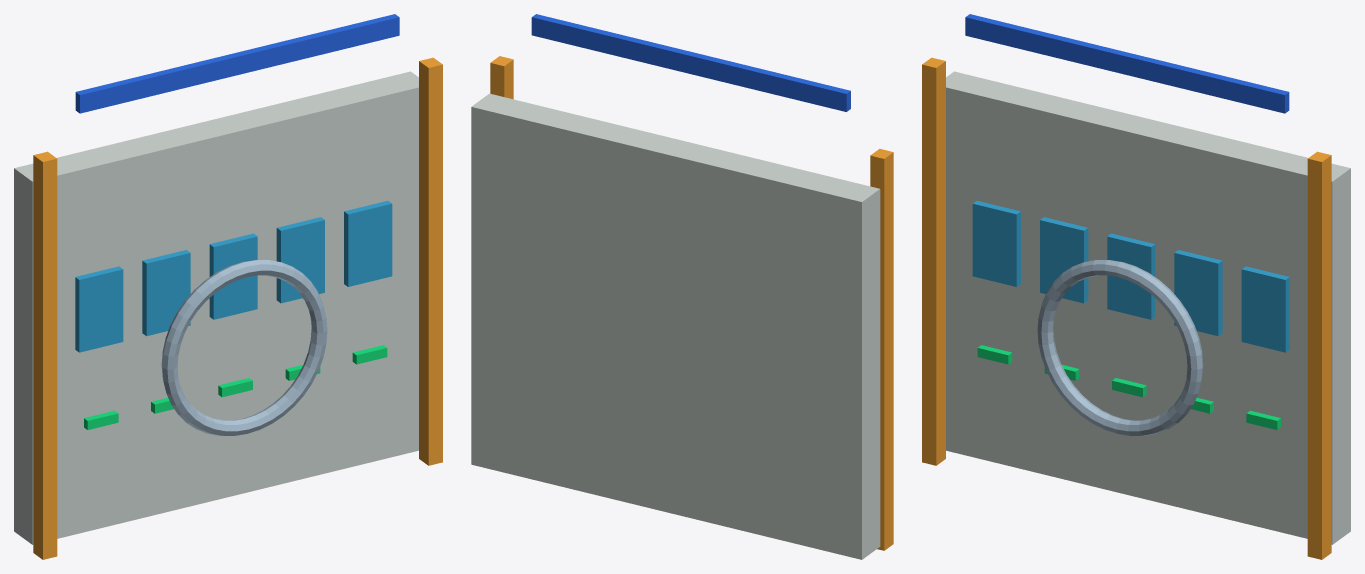
File: 03_L88_HabitatSectorA_Crew.fbx
3 renders of one model, left to right at view 1: azimuth 30°, elevation 25°; view 2: azimuth 150°, elevation 25°; view 3: azimuth 330°, elevation 25°, orthographic.
Parts seen in each view (by area): view 1: L87_Crew_Part_0000, L87_Crew_Part_0001, L87_Crew_Part_0002, L87_Crew_Part_0004, L87_Crew_Part_0005, L87_Crew_Part_0003; view 2: L87_Crew_Part_0000, L87_Crew_Part_0005, L87_Crew_Part_0001; view 3: L87_Crew_Part_0000, L87_Crew_Part_0001, L87_Crew_Part_0002, L87_Crew_Part_0004, L87_Crew_Part_0005, L87_Crew_Part_0003.
Part boxes in pixels (left/top/right/bottom): L87_Crew_Part_0000: left=14, top=71, right=418, bottom=544; L87_Crew_Part_0001: left=33, top=57, right=442, bottom=559; L87_Crew_Part_0002: left=75, top=200, right=392, bottom=352; L87_Crew_Part_0004: left=161, top=260, right=327, bottom=435; L87_Crew_Part_0005: left=75, top=14, right=399, bottom=113; L87_Crew_Part_0003: left=84, top=345, right=387, bottom=429; L87_Crew_Part_0000: left=471, top=93, right=880, bottom=559; L87_Crew_Part_0005: left=531, top=14, right=850, bottom=111; L87_Crew_Part_0001: left=490, top=56, right=893, bottom=550; L87_Crew_Part_0000: left=946, top=71, right=1350, bottom=544; L87_Crew_Part_0001: left=922, top=57, right=1331, bottom=559; L87_Crew_Part_0002: left=972, top=200, right=1289, bottom=352; L87_Crew_Part_0004: left=1037, top=260, right=1203, bottom=435; L87_Crew_Part_0005: left=965, top=14, right=1289, bottom=113; L87_Crew_Part_0003: left=977, top=345, right=1280, bottom=429.
Bounding box in the file's own units: 363 × 392 × 57.
